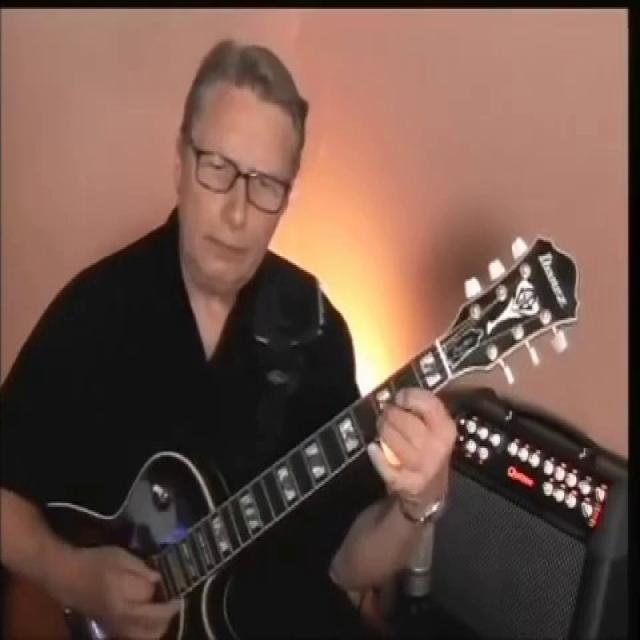Guitar: (5, 203, 592, 640)
